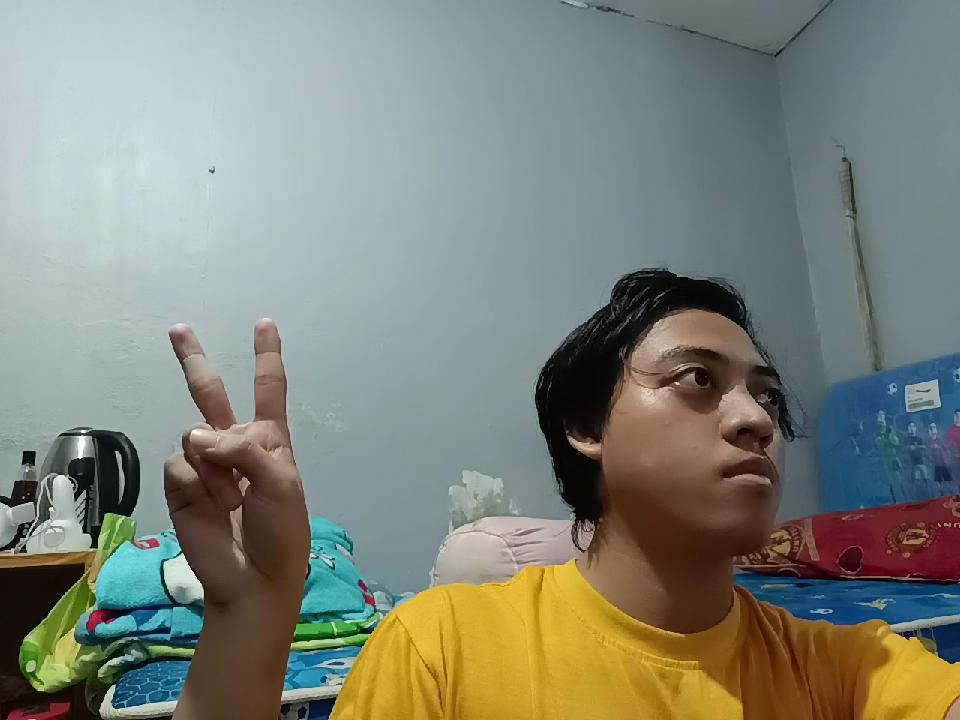scissors: (156, 307, 312, 587)
